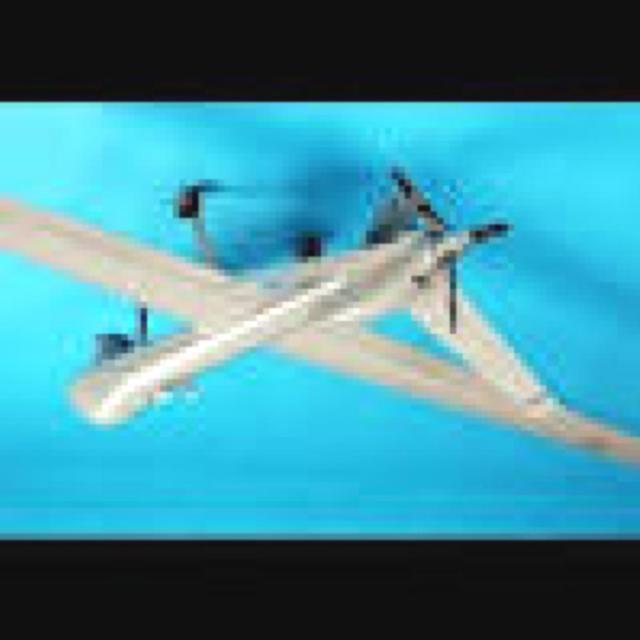plane: (1, 167, 640, 474)
